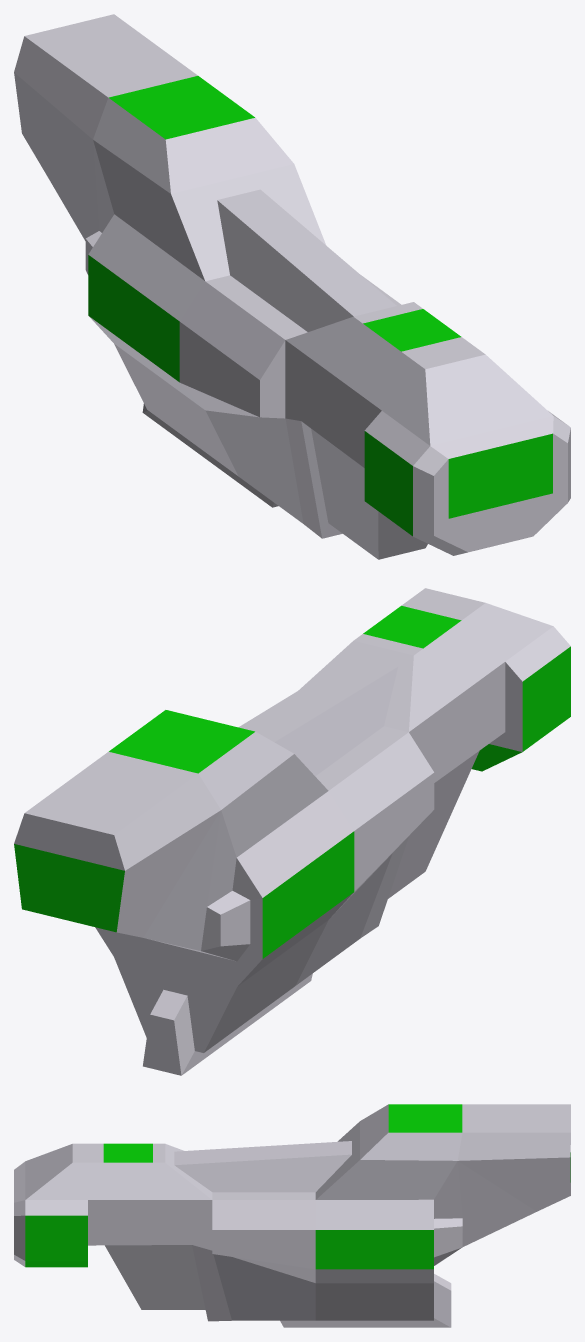
Rendered from hull.horse.fbx.
3 views of the same model, one above another, from view 1: azimuth 30°, elevation 25°; view 2: azimuth 150°, elevation 25°; view 3: azimuth 270°, elevation 25° (orthographic). The views are drawn at different scales.
Parts seen in each view (by area): view 1: hull.horse; view 2: hull.horse; view 3: hull.horse.
Boxes of the visible parts, <box> form: hull.horse: <box>14,14,570,559</box>; hull.horse: <box>14,588,570,1075</box>; hull.horse: <box>14,1104,570,1327</box>.
Size of the model in its own units: 1.37 by 2.37 by 5.9.
